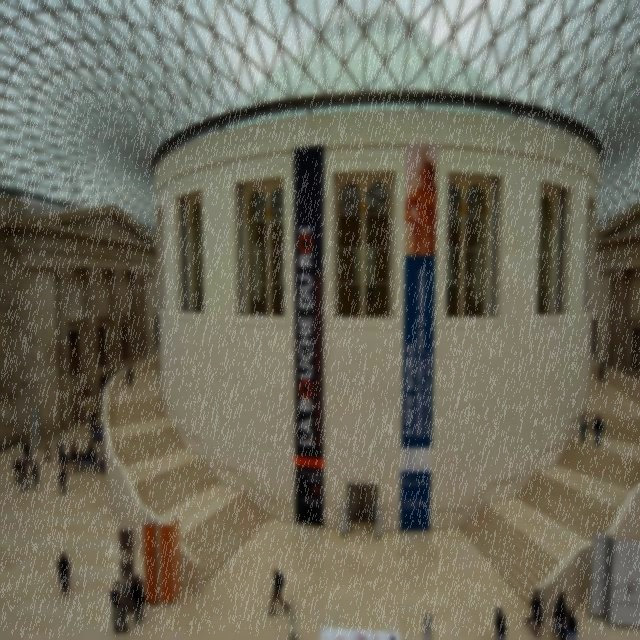pessoa: (401, 152, 435, 258), (266, 564, 292, 616), (108, 579, 130, 635), (128, 572, 148, 626), (551, 590, 571, 634), (56, 550, 72, 598), (524, 588, 540, 628), (552, 594, 567, 634), (530, 598, 544, 638), (590, 412, 606, 446), (576, 409, 590, 443), (566, 606, 580, 640), (57, 464, 69, 497), (19, 457, 30, 492), (54, 436, 65, 468), (30, 458, 41, 489), (494, 606, 504, 640), (23, 435, 33, 466), (497, 612, 508, 640), (90, 422, 104, 444), (11, 455, 21, 485), (125, 362, 136, 388), (42, 436, 52, 462), (88, 408, 97, 434), (596, 358, 606, 380), (68, 438, 76, 463), (61, 448, 69, 472), (87, 440, 94, 467), (91, 448, 98, 474), (72, 446, 78, 474), (79, 448, 85, 472), (76, 448, 82, 472), (68, 445, 76, 463), (99, 451, 105, 474), (83, 449, 91, 462), (388, 635, 397, 639)
